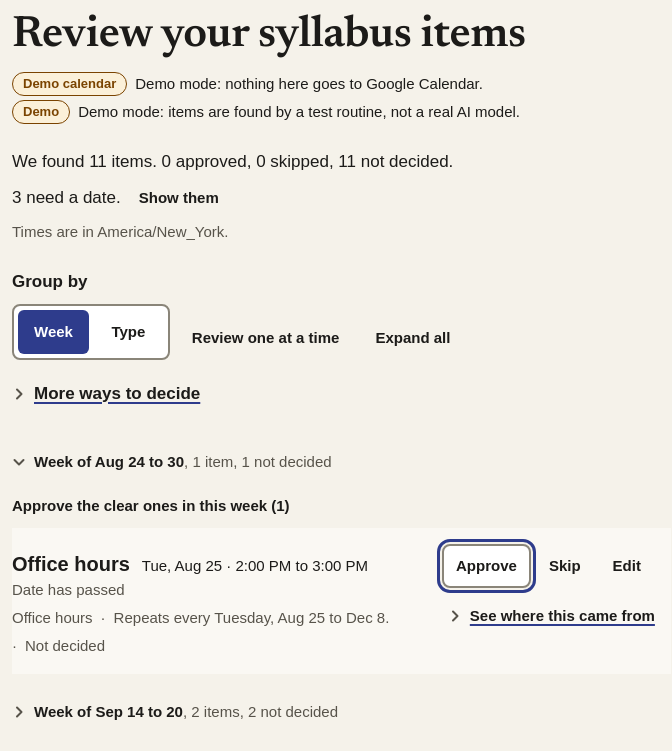
Review list (F1) › approve becomes Undo in the same position, focus stays, one announcement; Undo never expires
Expected: the text "We found 11 items. 0 approved, 0 skipped, 11 not decided." is shown, [12,148,453,176]
Click the button with aria-label "Approve Office hours" at (486, 566), box [442,544,531,588]
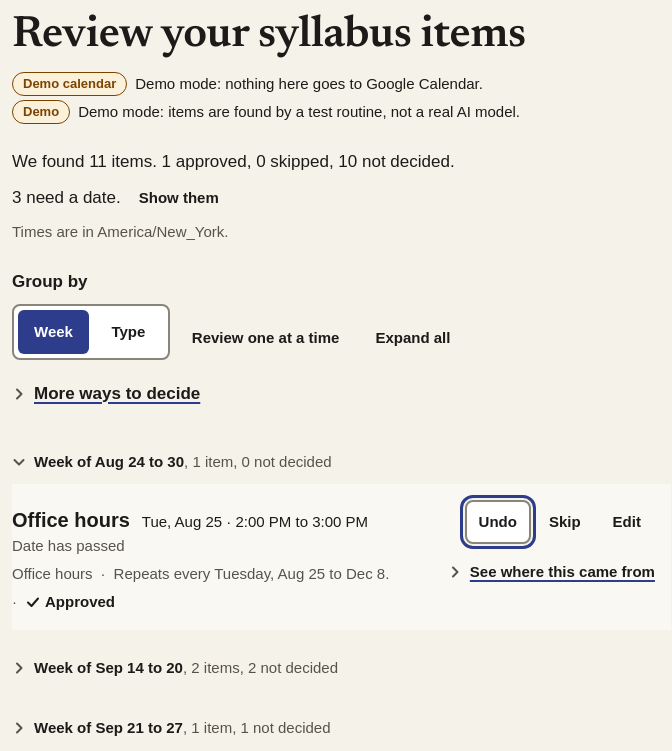
Now the text "Approved" is shown, box [25,590,115,614]
Now the text "We found 11 items. 1 approved, 0 skipped, 10 not decided." is shown, box [12,148,455,176]
Click the button with aria-label "Undo approval of Office hours" at (498, 522), box [464,500,531,544]
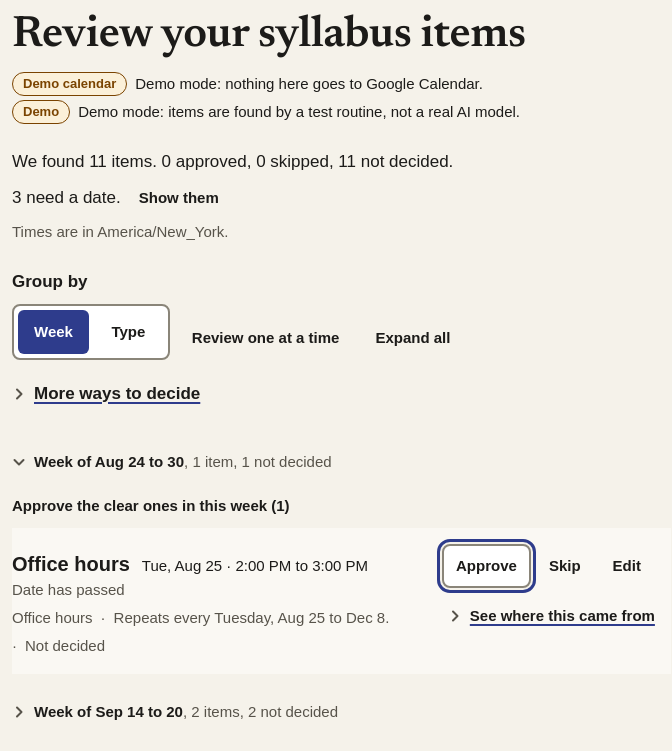
Now the text "Not decided" is shown, box [25,634,105,658]
